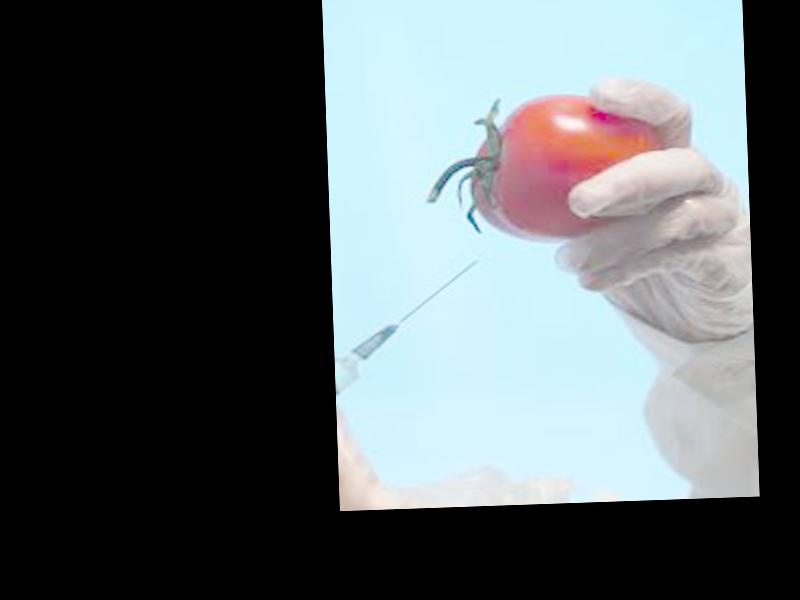Tomato: (468, 90, 665, 242)
